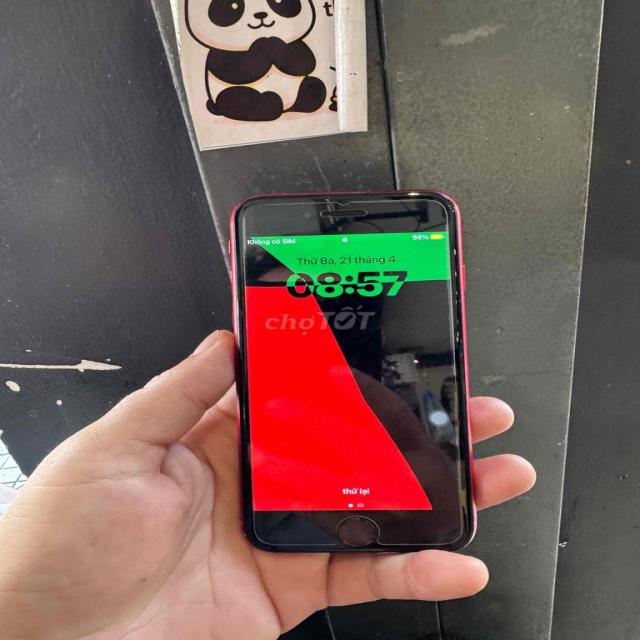scratch: (321, 195, 333, 204)
